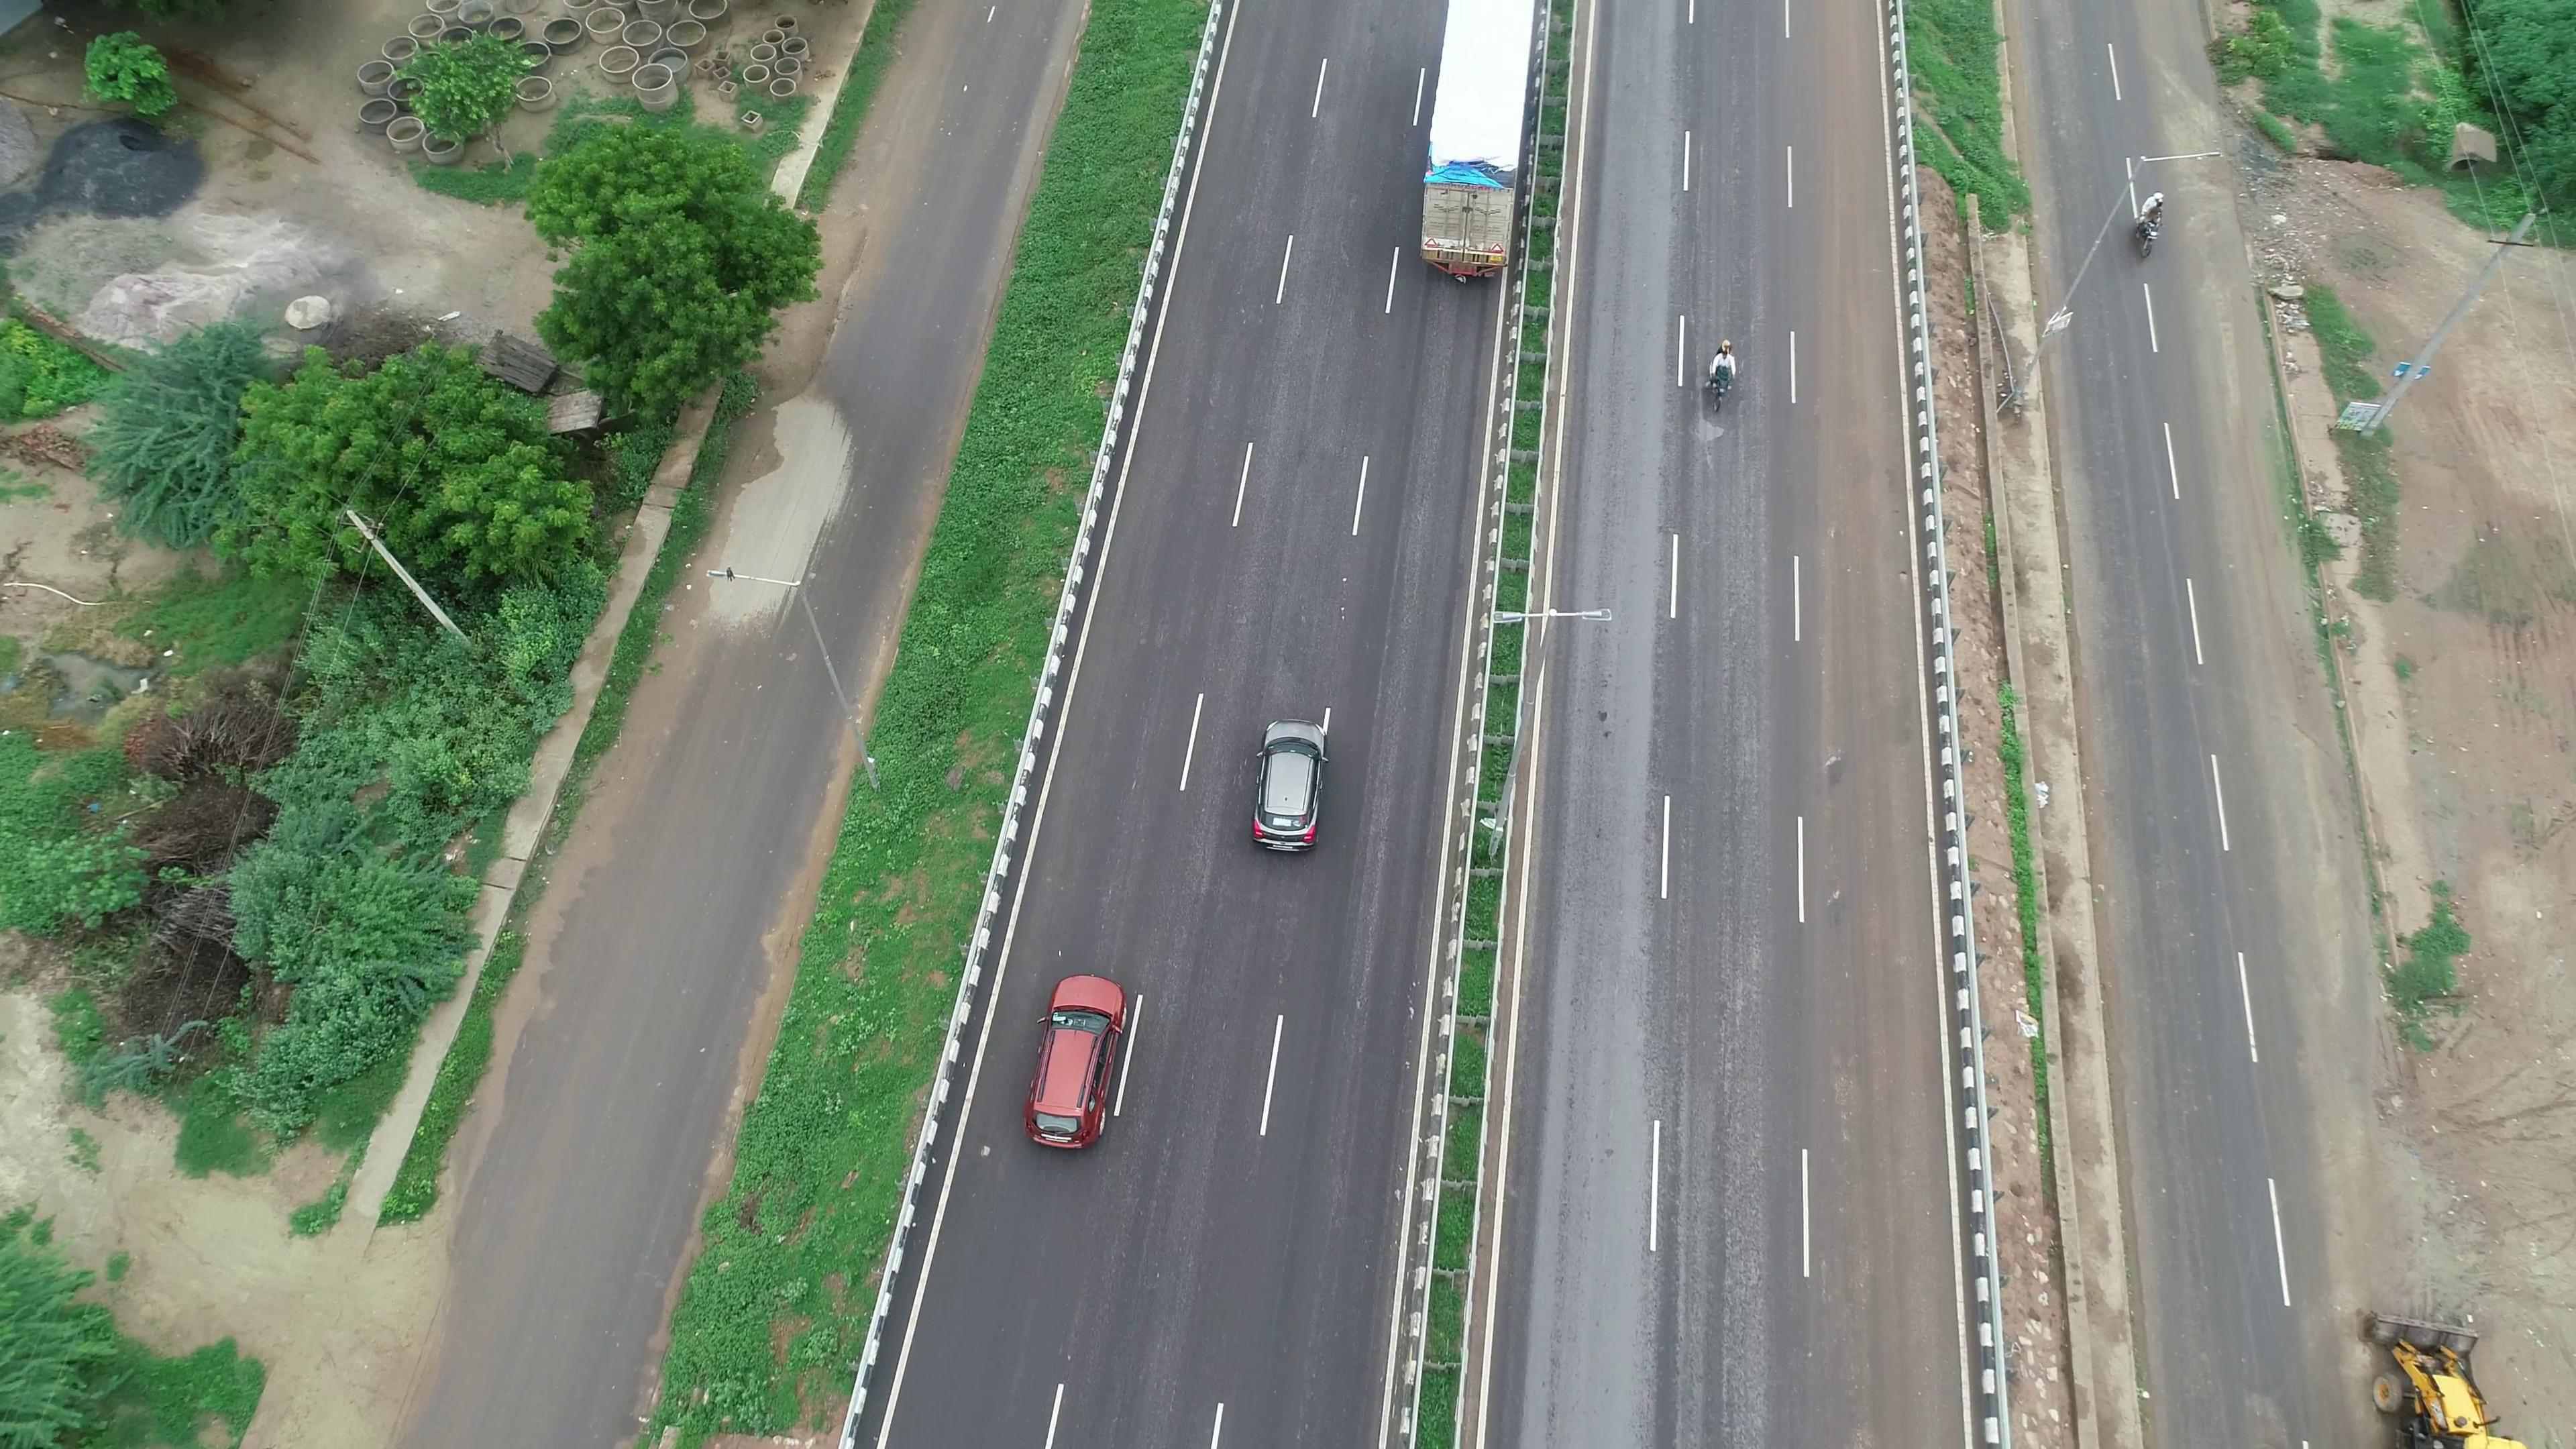Muddy_road: (1813, 888, 1941, 1414), (1805, 338, 1913, 840), (1799, 7, 1893, 288)
